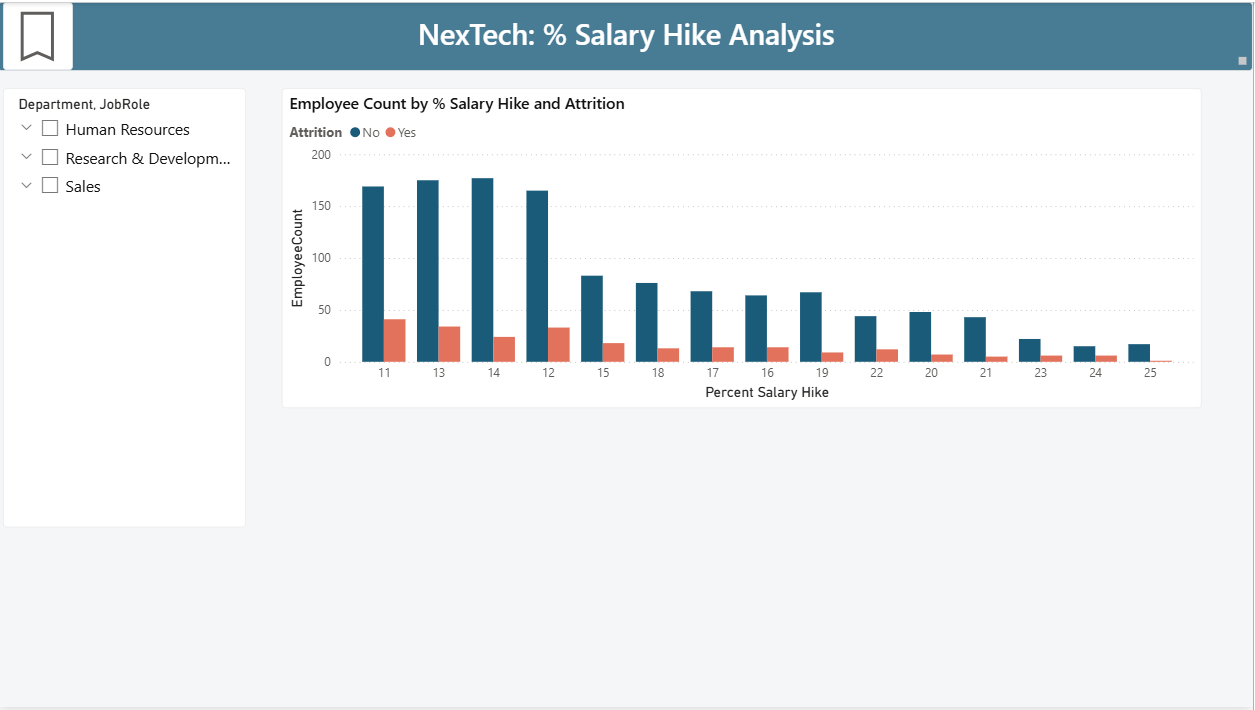

Layout of this report page (visuals, bound fields, positions):
{"tool":"powerbi","page":{"name":"Salary Hike","canvas":[1280,720],"ordinal":8},"visuals":[{"type":"textbox","title":"NexTech: % Salary Hike Analysis","box":[0,0,1279.8,70],"z":0},{"type":"slicer","fields":{"Values":["Survey Input.Department","Survey Input.JobRole"]},"box":[4.7,88.4,247.7,447.7],"z":1000},{"type":"clusteredColumnChart","title":"Employee Count by % Salary Hike and Attrition","fields":{"Series":["Survey Input.Attrition"],"Category":["Survey Input.PercentSalaryHike"],"Y":["Sum(Survey Input.EmployeeCount)"]},"box":[289.6,88.3,938.7,326.4],"z":2000},{"type":"actionButton","box":[4.9,0,71.2,69.9],"z":3000}]}

Visuals, with their boxes on the page's 1280x720 design canvas (x1, y1, x2, y2). These are canvas units, not pixel positions in the 1255x710 screenshot, which may show the page scaled, cropped or inside an application window:
"NexTech: % Salary Hike Analysis" textbox: BBox(0, 0, 1280, 70)
slicer - Survey Input.Department x Survey Input.JobRole: BBox(5, 88, 252, 536)
"Employee Count by % Salary Hike and Attrition" clusteredColumnChart: BBox(290, 88, 1228, 415)
actionButton: BBox(5, 0, 76, 70)
